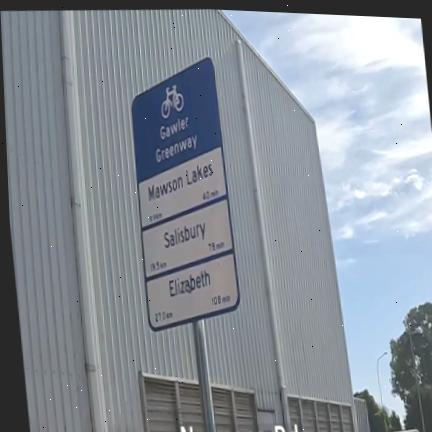Bike_Sign: (131, 56, 240, 431)
